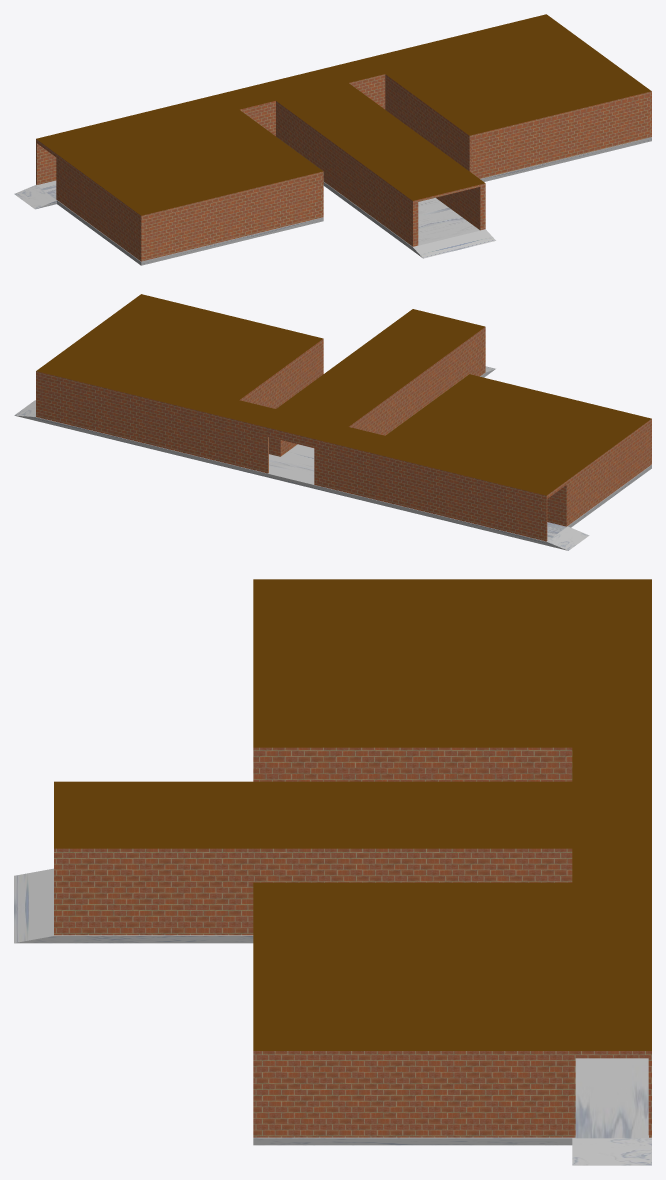
Rendered from Bathroom.fbx.
3 views of the same model, one above another, from view 1: azimuth 30°, elevation 25°; view 2: azimuth 150°, elevation 25°; view 3: azimuth 270°, elevation 25° (orthographic). The views are drawn at different scales.
Parts seen in each view (by area): view 1: Cube.005, Floor_Bath; view 2: Cube.005, Floor_Bath; view 3: Cube.005, Floor_Bath.
Part boxes in pixels (x1,y1,x2,y2): Cube.005: [36, 14, 651, 261]; Floor_Bath: [14, 137, 651, 265]; Cube.005: [36, 294, 651, 541]; Floor_Bath: [14, 366, 651, 550]; Cube.005: [54, 579, 651, 1137]; Floor_Bath: [14, 868, 651, 1165].
Bounding box in the file's own units: 15200 × 1306 × 8000.
